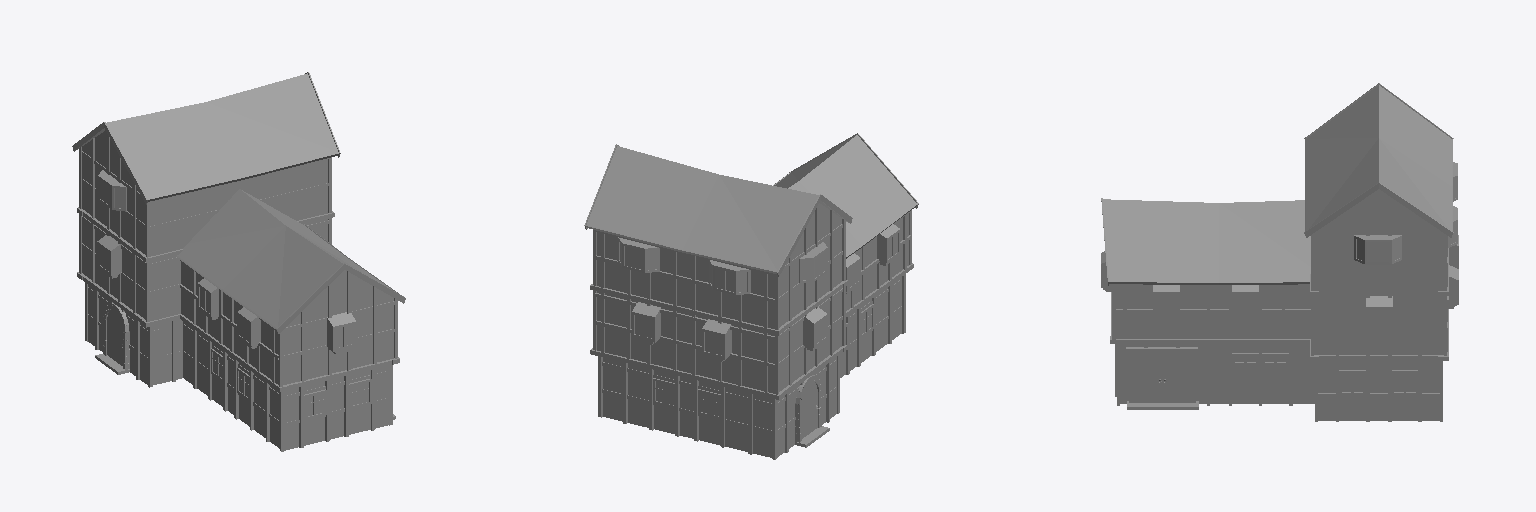
The model's file is house1.obj.
3 views of the same model, side by side, from view 1: azimuth 30°, elevation 25°; view 2: azimuth 150°, elevation 25°; view 3: azimuth 270°, elevation 25° (orthographic).
Visible parts, largest first — view 1: House2_Roof_Cube.045, House1_Roof_Cube.062, House1_Level2_Cube.061, House2_Level3_Cube.046, House1_Level1_Cube.060, House1_Level1_Beams_Cube.065, House2_Level2_Cube.050, House1_Level2_Beams_Cube.064, House2_Level3_Beams_Cube.043, House2_Level1_Cube.047, House2_Level2_Beams_Cube.051, House2_Level1_Beams_Cube.042 (+12 smaller); view 2: House2_Roof_Cube.045, House2_Level3_Cube.046, House2_Level2_Cube.050, House2_Level1_Cube.047, House1_Roof_Cube.062, House2_Level1_Beams_Cube.042, House2_Level2_Beams_Cube.051, House2_Level3_Beams_Cube.043, House1_Level1_Cube.060, House2_Level2_SeperatorBeams_Cube.049, House2_Level1_SeperatorBeams_Cube.044, House1_Level2_Cube.061 (+12 smaller); view 3: House1_Roof_Cube.062, House2_Roof_Cube.045, House2_Level3_Cube.046, House1_Level2_Cube.061, House2_Level2_Cube.050, House1_Level1_Cube.060, House2_Level1_Cube.047, House2_Level3_Beams_Cube.043, House2_Level1_Beams_Cube.042, House1_Level2_Beams_Cube.064, House1_Level1_Beams_Cube.065, House2_Level2_Beams_Cube.051 (+13 smaller).
Part boxes in pixels (x1,y1,x2,y2): House2_Roof_Cube.045: (106, 73, 338, 198); House1_Roof_Cube.062: (177, 189, 391, 327); House1_Level2_Cube.061: (181, 262, 393, 384); House2_Level3_Cube.046: (82, 130, 327, 256); House1_Level1_Cube.060: (183, 322, 388, 450); House1_Level1_Beams_Cube.065: (183, 324, 392, 451); House2_Level2_Cube.050: (82, 219, 327, 320); House1_Level2_Beams_Cube.064: (180, 260, 397, 386); House2_Level3_Beams_Cube.043: (79, 134, 331, 257); House2_Level1_Cube.047: (88, 285, 182, 384); House2_Level2_Beams_Cube.051: (79, 214, 331, 321); House2_Level1_Beams_Cube.042: (85, 283, 182, 387); House2_Roof_Cube.045: (587, 146, 818, 271); House2_Level3_Cube.046: (597, 203, 841, 328); House2_Level2_Cube.050: (597, 290, 841, 393); House2_Level1_Cube.047: (603, 357, 836, 457); House1_Roof_Cube.062: (774, 135, 916, 255); House2_Level1_Beams_Cube.042: (598, 355, 839, 459); House2_Level2_Beams_Cube.051: (593, 287, 845, 394); House2_Level3_Beams_Cube.043: (593, 206, 845, 329); House1_Level1_Cube.060: (840, 277, 901, 377); House2_Level2_SeperatorBeams_Cube.049: (590, 280, 847, 335); House2_Level1_SeperatorBeams_Cube.044: (590, 345, 847, 399); House1_Level2_Cube.061: (846, 213, 908, 310); House1_Roof_Cube.062: (1103, 199, 1310, 281); House2_Roof_Cube.045: (1306, 85, 1451, 230); House2_Level3_Cube.046: (1314, 189, 1443, 290); House1_Level2_Cube.061: (1116, 285, 1310, 338); House2_Level2_Cube.050: (1314, 296, 1443, 354); House1_Level1_Cube.060: (1120, 344, 1314, 403); House2_Level1_Cube.047: (1318, 360, 1439, 420); House2_Level3_Beams_Cube.043: (1311, 195, 1447, 290); House2_Level1_Beams_Cube.042: (1315, 360, 1442, 421); House1_Level2_Beams_Cube.064: (1112, 284, 1310, 339); House1_Level1_Beams_Cube.065: (1115, 344, 1314, 405); House2_Level2_Beams_Cube.051: (1311, 296, 1448, 355).
Bounding box in the file's own units: 8.78 × 10.07 × 13.25.